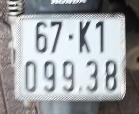0: (23, 58, 38, 94)
1: (94, 19, 108, 53)
3: (84, 59, 100, 93)
6: (32, 19, 49, 57)
7: (49, 18, 63, 53)
8: (104, 57, 120, 93)
9: (42, 59, 58, 93), (60, 58, 75, 93)
K: (77, 17, 93, 55)
